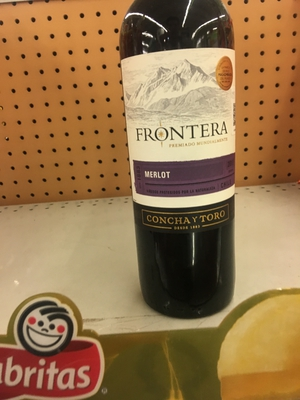frontera merlot: (100, 10, 249, 303)
